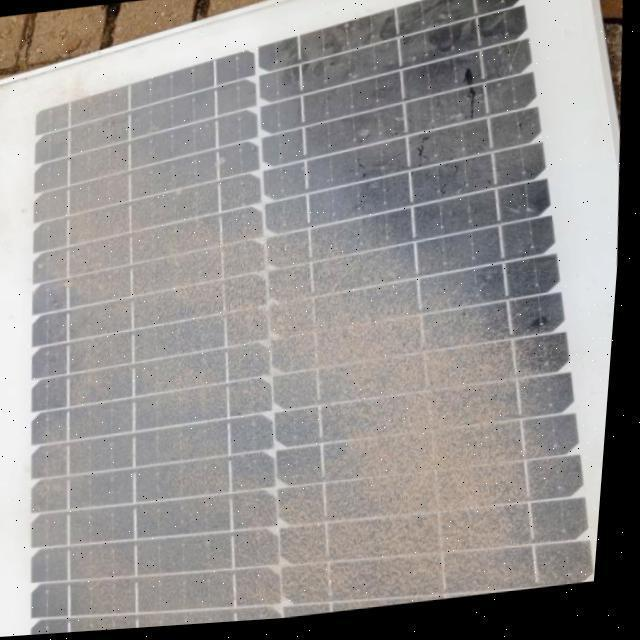Surface Contaminant: (10, 27, 561, 638)
